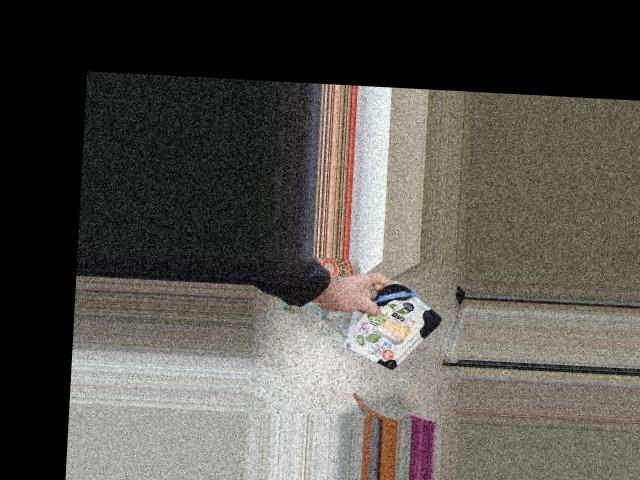cheese: (349, 277, 441, 380)
